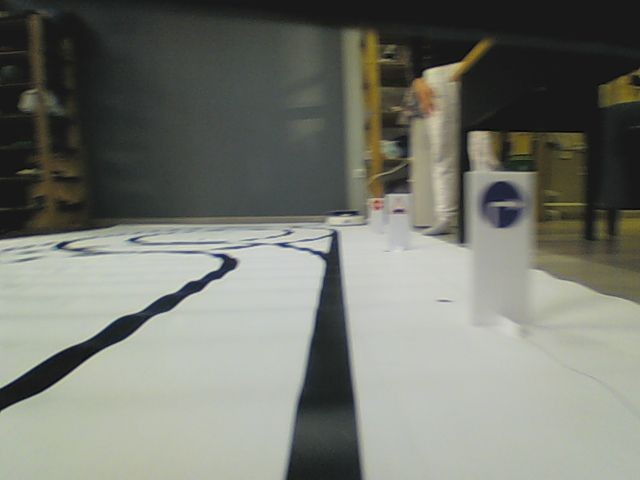Right: (480, 180, 527, 229)
